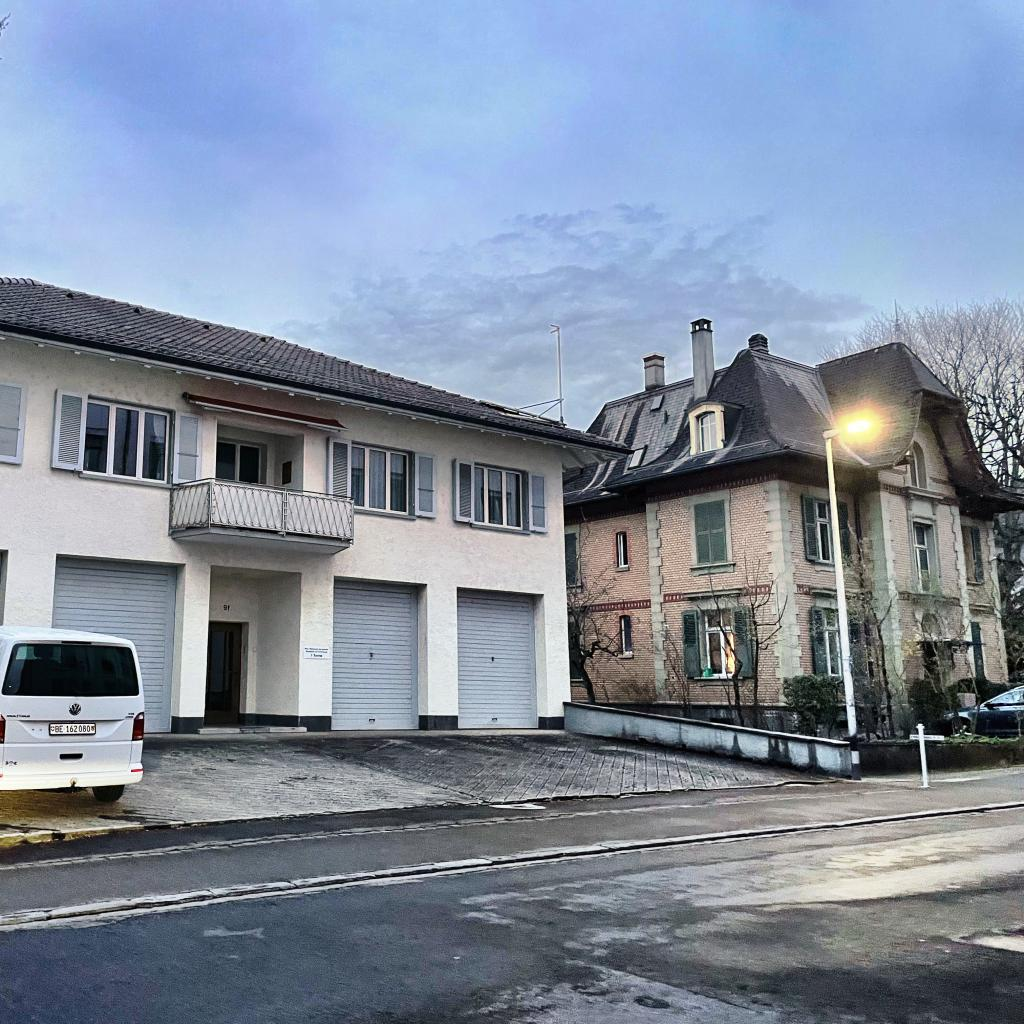balcony-fence: (171, 476, 356, 544)
car: (0, 623, 147, 804), (935, 682, 1024, 743)
facade: (0, 330, 628, 733), (566, 455, 840, 705), (836, 417, 1007, 707)
fence: (564, 702, 921, 776), (926, 741, 1024, 769)
street: (0, 731, 1024, 1024)
traffic-infrastructure: (820, 418, 871, 740)
vegetation: (819, 297, 1024, 484), (695, 551, 789, 730), (840, 519, 898, 739), (566, 505, 625, 706), (910, 604, 982, 707), (642, 622, 695, 719), (996, 509, 1024, 685), (780, 672, 848, 739), (609, 662, 660, 713)
window: (51, 387, 203, 489), (326, 436, 438, 524), (451, 456, 548, 536), (0, 376, 30, 467), (693, 499, 728, 565), (800, 494, 832, 565), (217, 440, 262, 482), (706, 610, 734, 677), (914, 523, 933, 592), (961, 526, 984, 583), (824, 609, 843, 677), (568, 622, 584, 681), (970, 622, 985, 678), (699, 412, 716, 452), (564, 533, 577, 585), (622, 616, 632, 654), (618, 533, 628, 567), (281, 461, 292, 486), (910, 464, 917, 487)
